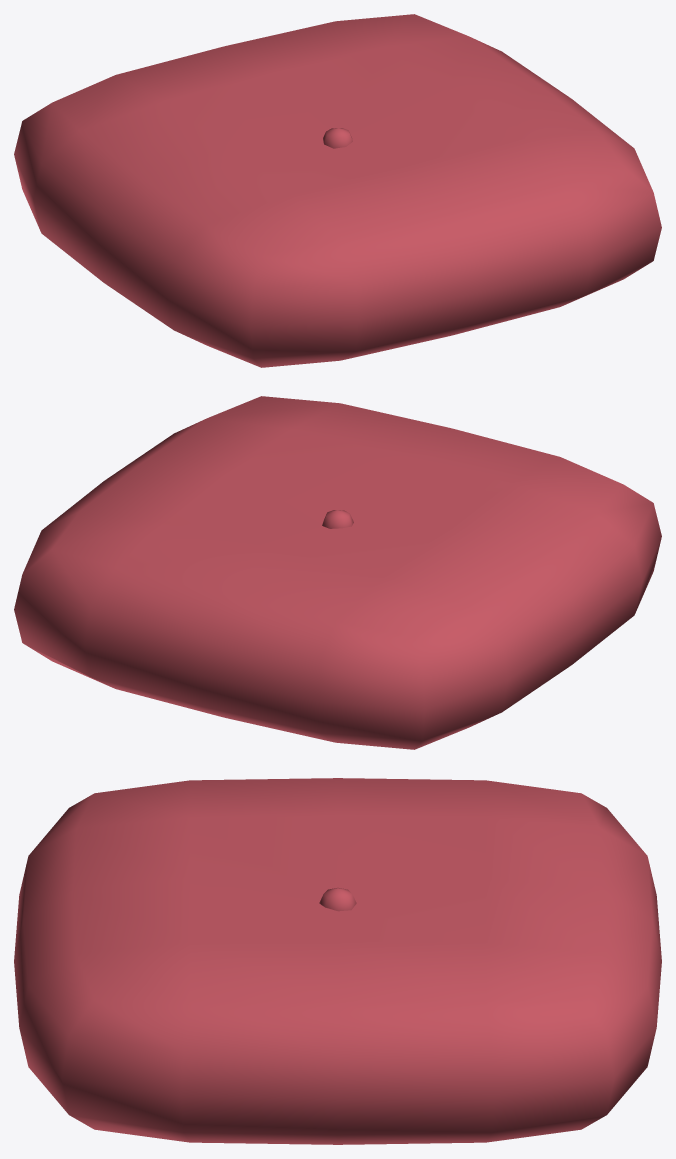
Rendered from floor_cushion.fbx.
The picture shows the model from 3 angles, top to bottom: view 1: azimuth 30°, elevation 25°; view 2: azimuth 150°, elevation 25°; view 3: azimuth 270°, elevation 25°; orthographic projection. The views are drawn at different scales.
Visible parts, largest first — view 1: floor_cushion; view 2: floor_cushion; view 3: floor_cushion.
Boxes of the visible parts, bbox=[...] form: floor_cushion: bbox=[14, 14, 661, 367]; floor_cushion: bbox=[14, 396, 661, 749]; floor_cushion: bbox=[14, 778, 661, 1144].
Bounding box in the file's own units: 0.6996 × 0.1984 × 0.6996.
